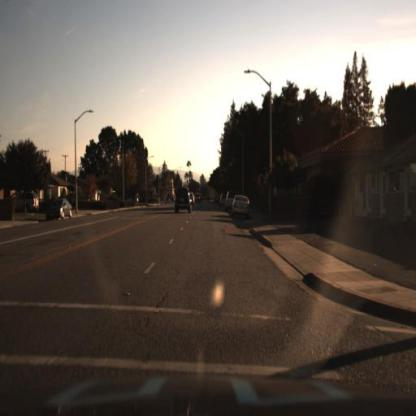car: (44, 194, 75, 222), (14, 192, 42, 219), (173, 186, 194, 214), (232, 196, 250, 217), (226, 189, 241, 212)
